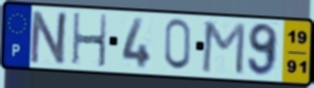0: (162, 17, 193, 73)
4: (120, 16, 154, 71)
9: (246, 21, 281, 80)
H: (71, 12, 109, 70)
M: (200, 20, 248, 76)
N: (27, 9, 72, 67)
